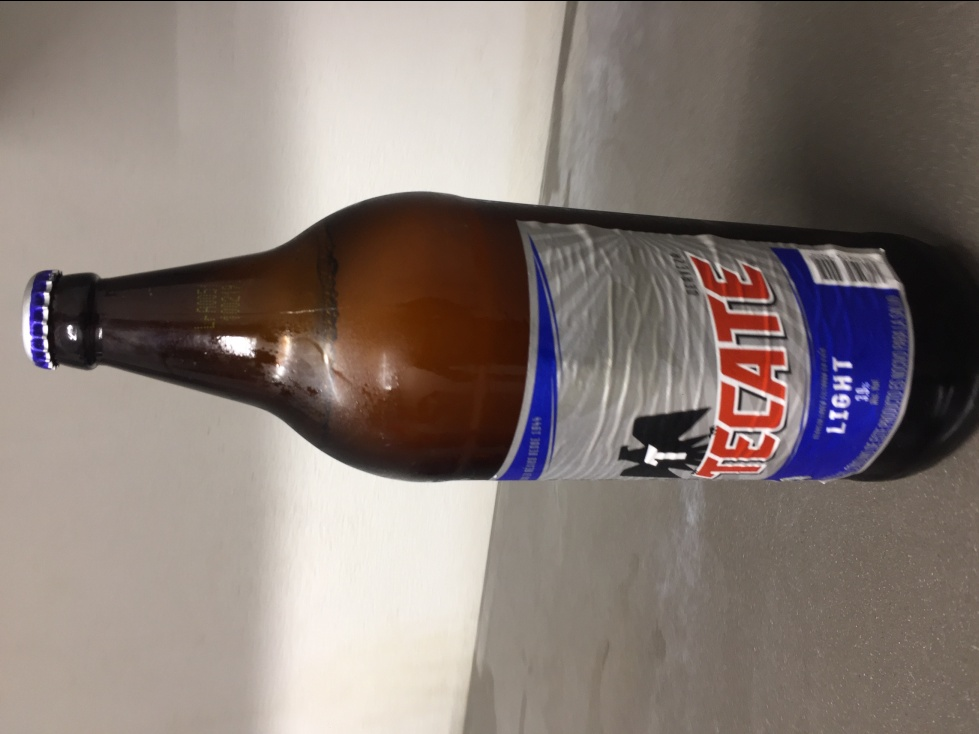tecateC: (29, 186, 979, 492)
